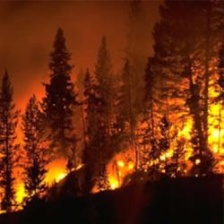fire: (2, 66, 224, 205)
